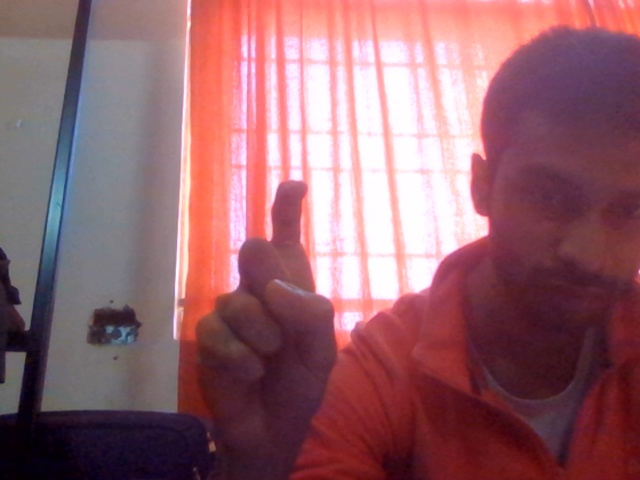X: (190, 154, 364, 480)
